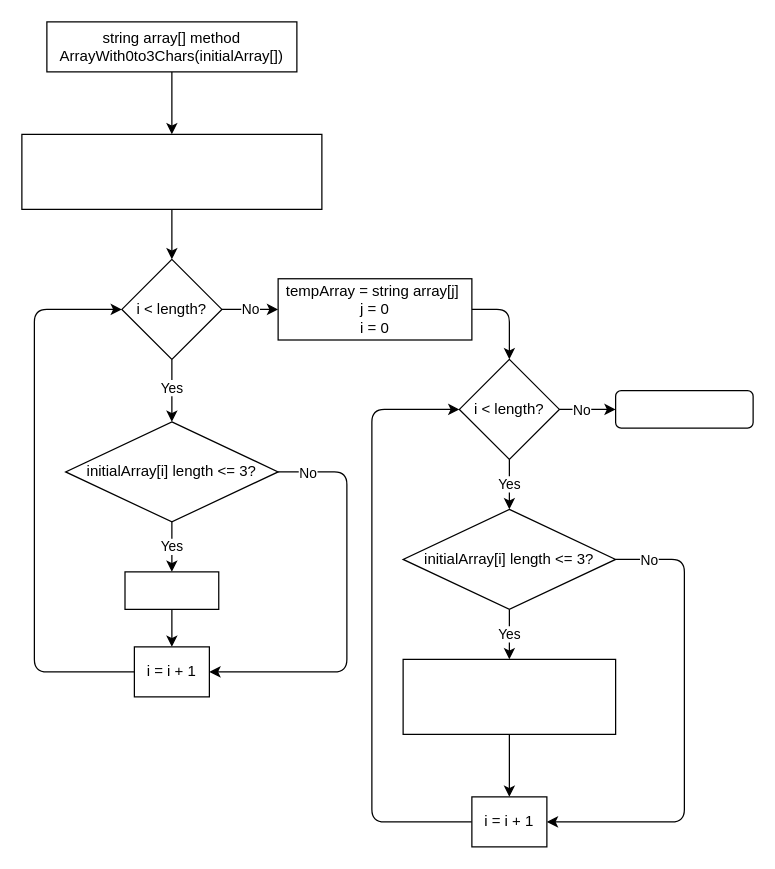
Image size: 775x869. Some labels were removed from this diagram. The shapes that lost their labels are listed below. From the top down, each one's centre as x and y in pixels, then its label:
point 171,171: length = initialArray length j = 0 i = 0
point 683,408: Return tempArray
point 171,590: j = j + 1
point 509,696: tempArray[j] = initialArray[i] j = j + 1
